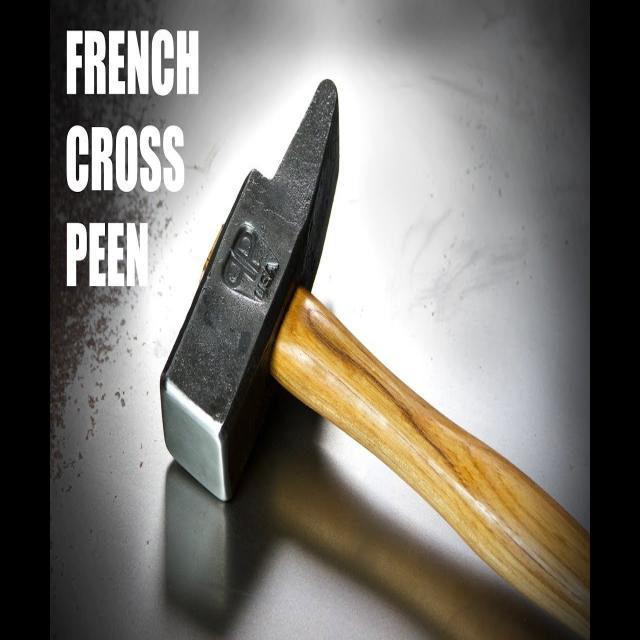hammer: (154, 70, 587, 640)
